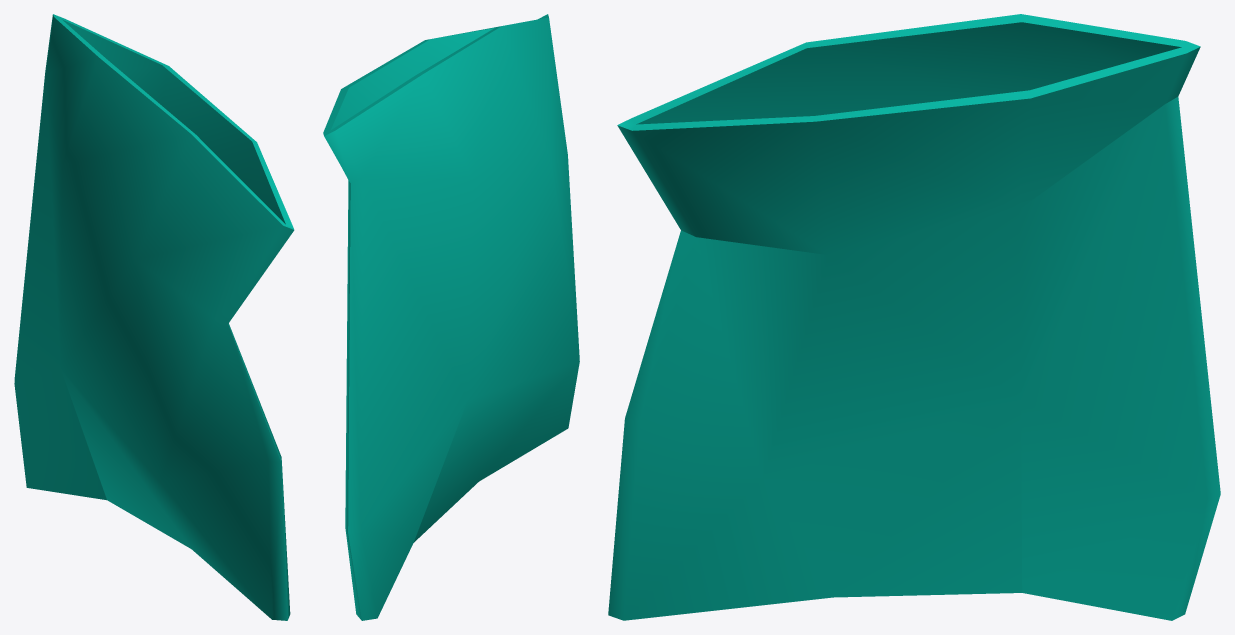
Rendered from li_bag01.fbx.
The picture shows the model from 3 angles, left to right: view 1: azimuth 30°, elevation 25°; view 2: azimuth 150°, elevation 25°; view 3: azimuth 270°, elevation 25°; orthographic projection. The views are drawn at different scales.
Parts seen in each view (by area): view 1: li_bag01; view 2: li_bag01; view 3: li_bag01.
Boxes of the visible parts, x1,y1,x2,y2 form: li_bag01: [14, 14, 294, 620]; li_bag01: [323, 14, 579, 620]; li_bag01: [608, 14, 1220, 620].
Size of the model in its own units: 5.27 by 19.41 by 17.85.
